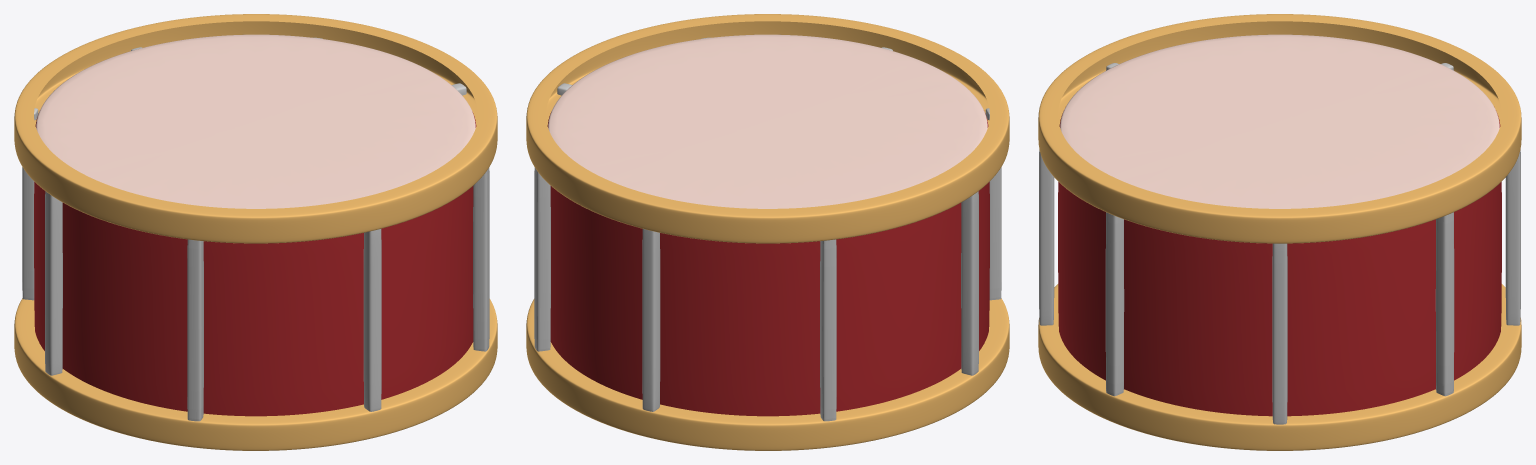
The model's file is Drum_01.fbx.
3 renders of one model, left to right at view 1: azimuth 30°, elevation 25°; view 2: azimuth 150°, elevation 25°; view 3: azimuth 270°, elevation 25°, orthographic.
Visible parts, largest first — view 1: Object_16; view 2: Object_16; view 3: Object_16.
Boxes of the visible parts, x1,y1,x2,y2 form: Object_16: [14, 14, 497, 450]; Object_16: [526, 14, 1009, 450]; Object_16: [1038, 14, 1521, 450].
Bounding box in the file's own units: 409 × 219 × 409.
